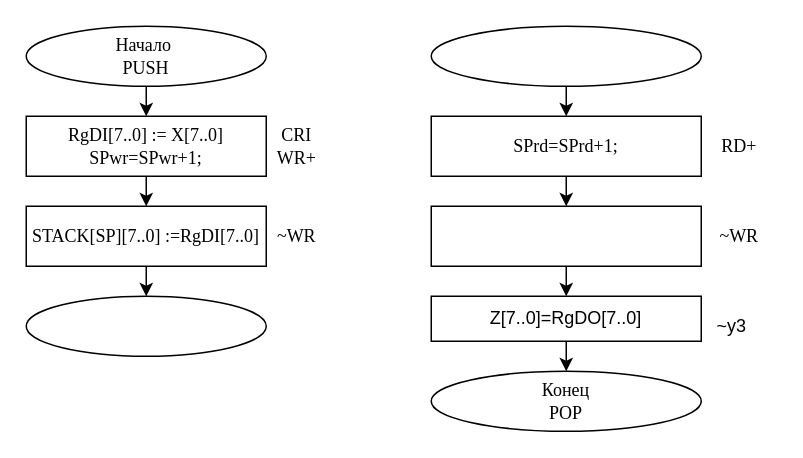
Image size: 803x458. Some labels were removed from this diagram. Each missing label, with the centre of its shape:
"RgDO[7..0]:=STACK[SPdr][7..0]" goes at (565,235).
"Конец PUSH" goes at (145,325).
"Начало POP" goes at (565,55).
